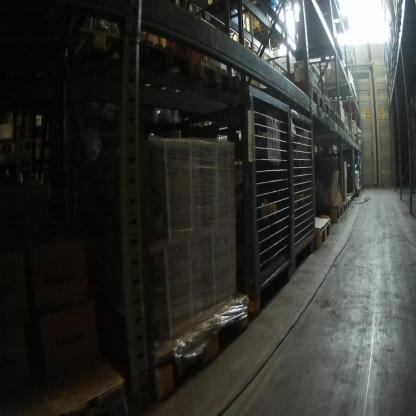pallet: (139, 295, 250, 404), (4, 335, 132, 413), (184, 54, 259, 103), (133, 40, 198, 89), (244, 18, 291, 53), (290, 80, 326, 114), (304, 209, 331, 248), (172, 0, 215, 24), (320, 81, 357, 100), (320, 203, 343, 231), (325, 97, 334, 124), (331, 108, 341, 129), (337, 200, 348, 219), (343, 194, 352, 209), (339, 117, 346, 134), (343, 122, 350, 139), (347, 126, 353, 142), (353, 131, 356, 144), (350, 192, 352, 199)
stillage: (156, 78, 294, 320), (287, 103, 316, 275), (72, 7, 133, 45)
